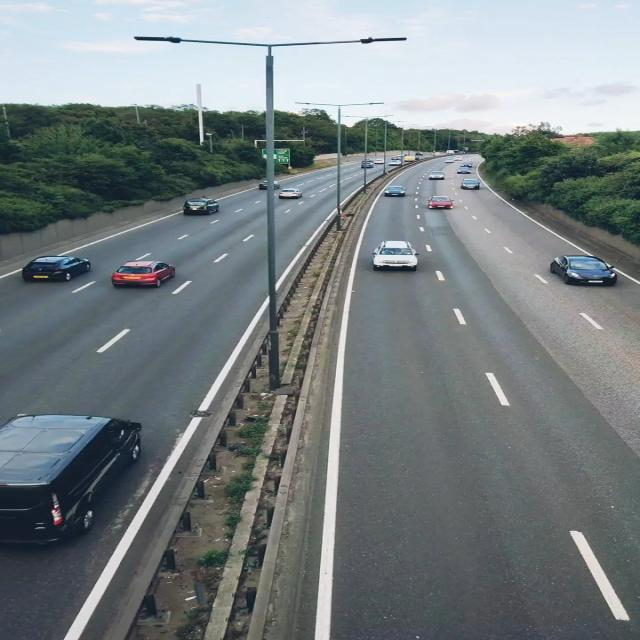Car: (0, 412, 148, 546), (17, 251, 99, 285), (545, 254, 624, 288), (104, 259, 183, 289), (366, 237, 425, 277), (180, 196, 226, 216), (422, 194, 460, 210), (276, 187, 306, 200), (382, 185, 412, 198), (458, 178, 483, 190), (429, 170, 447, 182), (454, 166, 472, 175), (358, 161, 377, 169), (401, 155, 418, 163), (373, 157, 384, 166), (388, 160, 402, 166)
